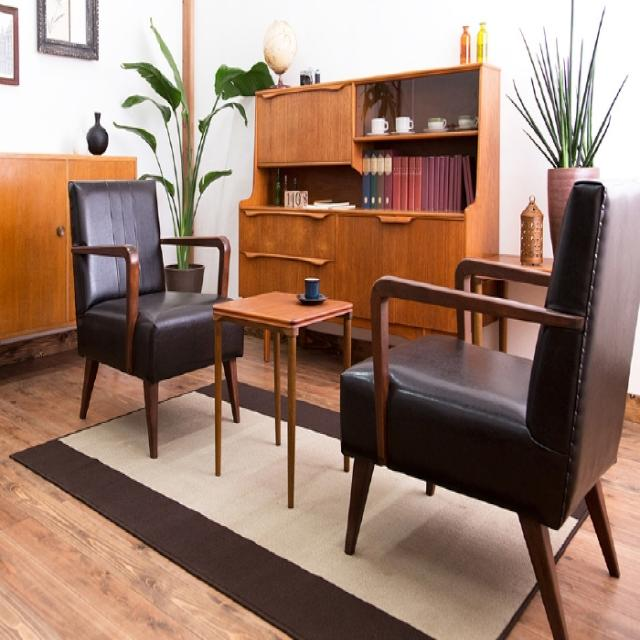vintage chair: (342, 145, 632, 638), (65, 175, 244, 458)
vintage desk: (212, 290, 352, 508)
vintage shelf: (237, 66, 499, 288)
